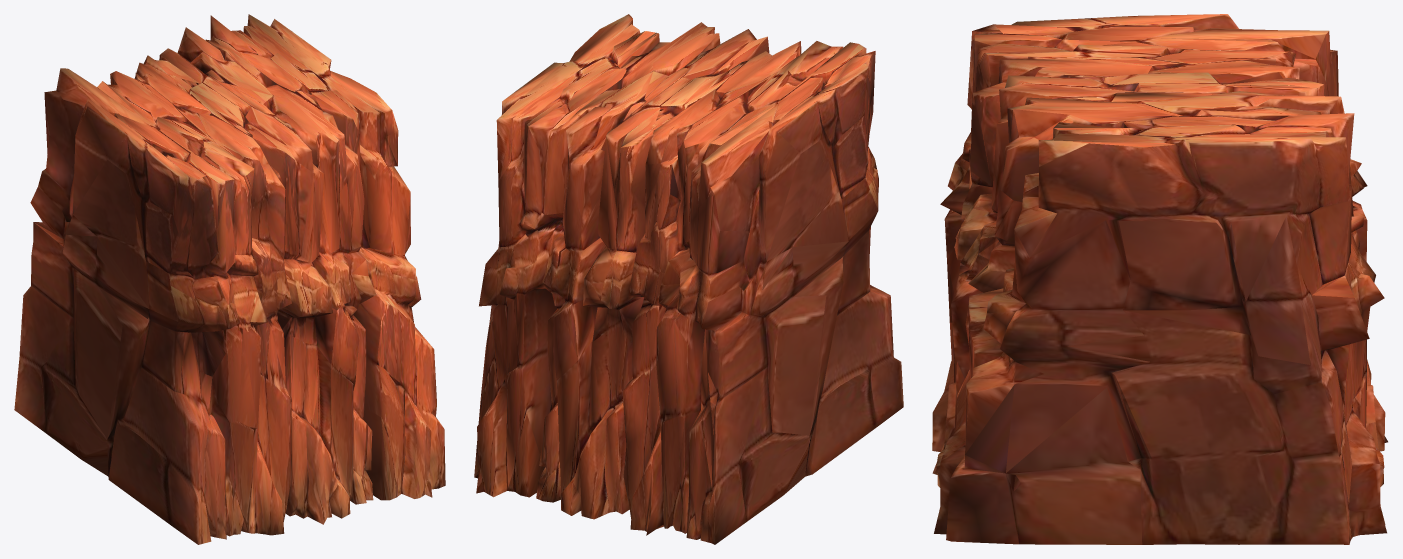
The model's file is rockA.glb.
3 views of the same model, side by side, from view 1: azimuth 30°, elevation 25°; view 2: azimuth 150°, elevation 25°; view 3: azimuth 270°, elevation 25° (orthographic). The views are drawn at different scales.
Visible parts, largest first — view 1: RedRockKitA; view 2: RedRockKitA; view 3: RedRockKitA.
Boxes of the visible parts, bbox=[...] form: RedRockKitA: bbox=[14, 14, 445, 544]; RedRockKitA: bbox=[474, 14, 903, 544]; RedRockKitA: bbox=[932, 14, 1387, 544].
Size of the model in its own units: 4.73 by 6.6 by 6.76.
Materials: 1 (1 with a texture image).
